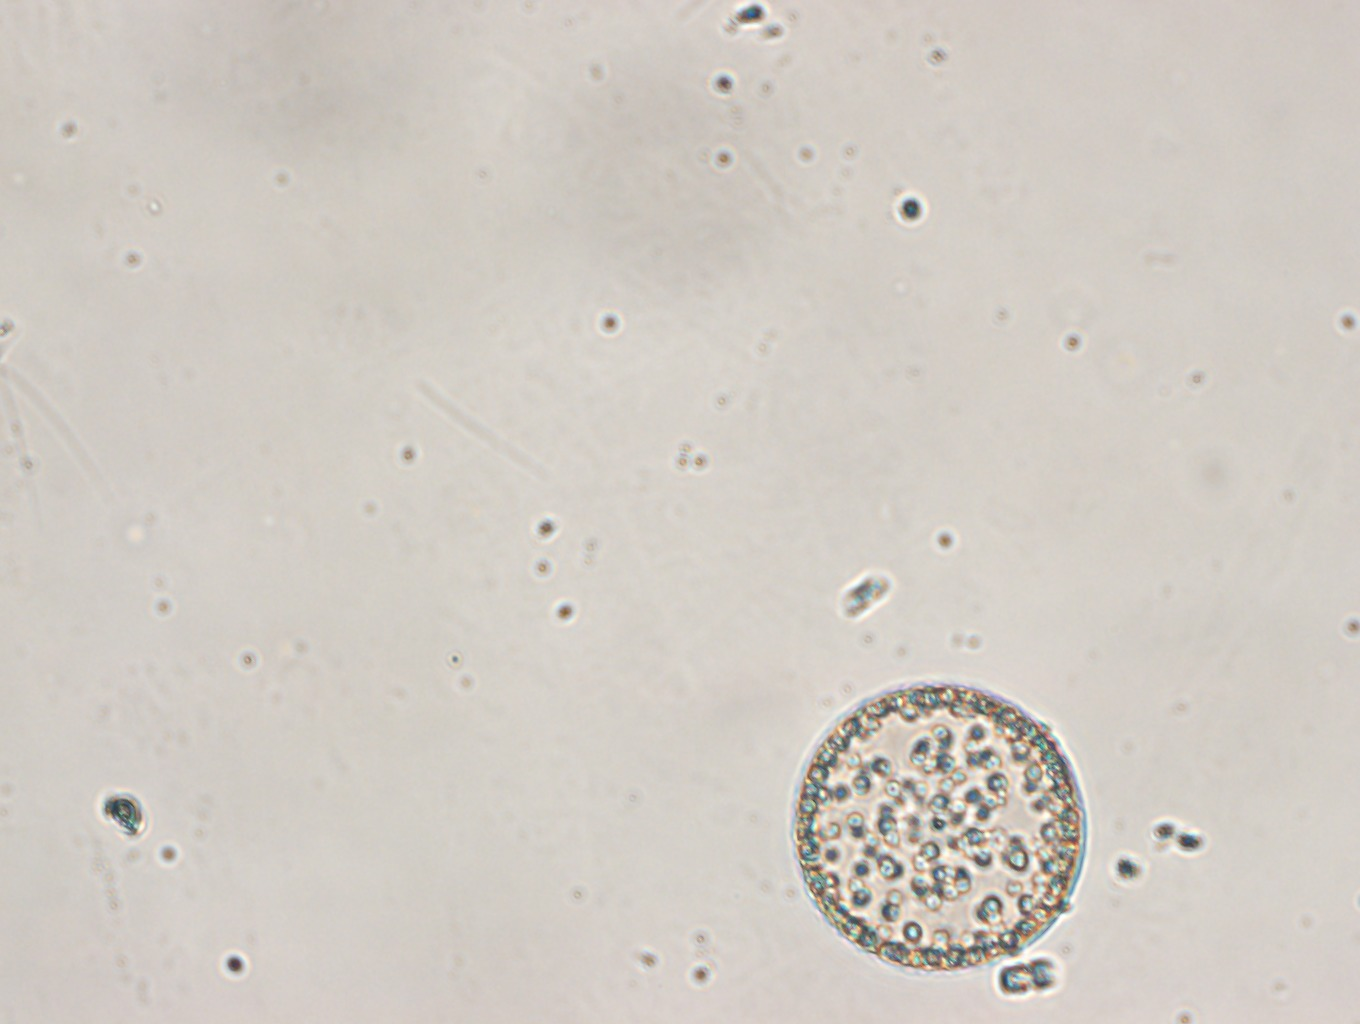coscinodiscus: (787, 672, 1093, 975)
